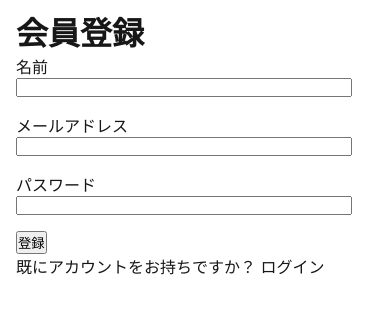
it: RegisterPage › 登録失敗時にエラーメッセージを表示する
Type "テストユーザー" into the field labelled "名前" at (184, 88), box [16,78,352,97]
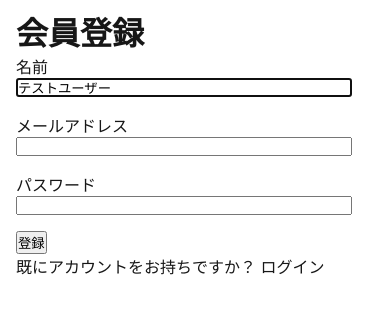
Type "test@example.com" into the field labelled "メールアドレス" at (184, 146), box [16,137,352,156]
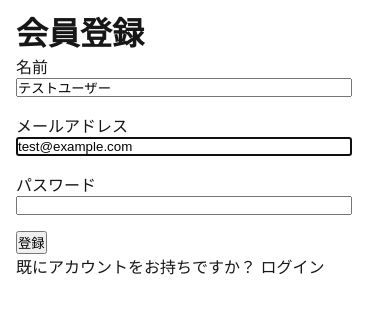
Type "password123" into the password field labelled "パスワード" at (184, 206), box [16,196,352,215]
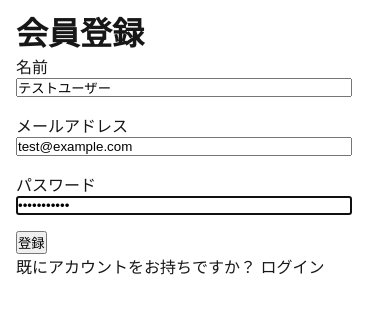
Click the button "登録" at (31, 242), box [16,231,47,254]
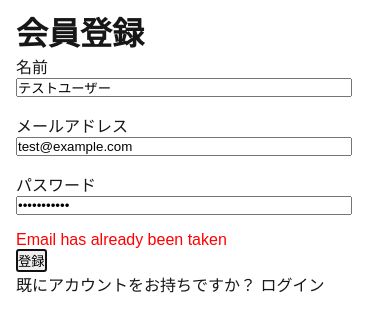
Check: the text "Email has already been taken" is shown, box [16,231,227,248]
